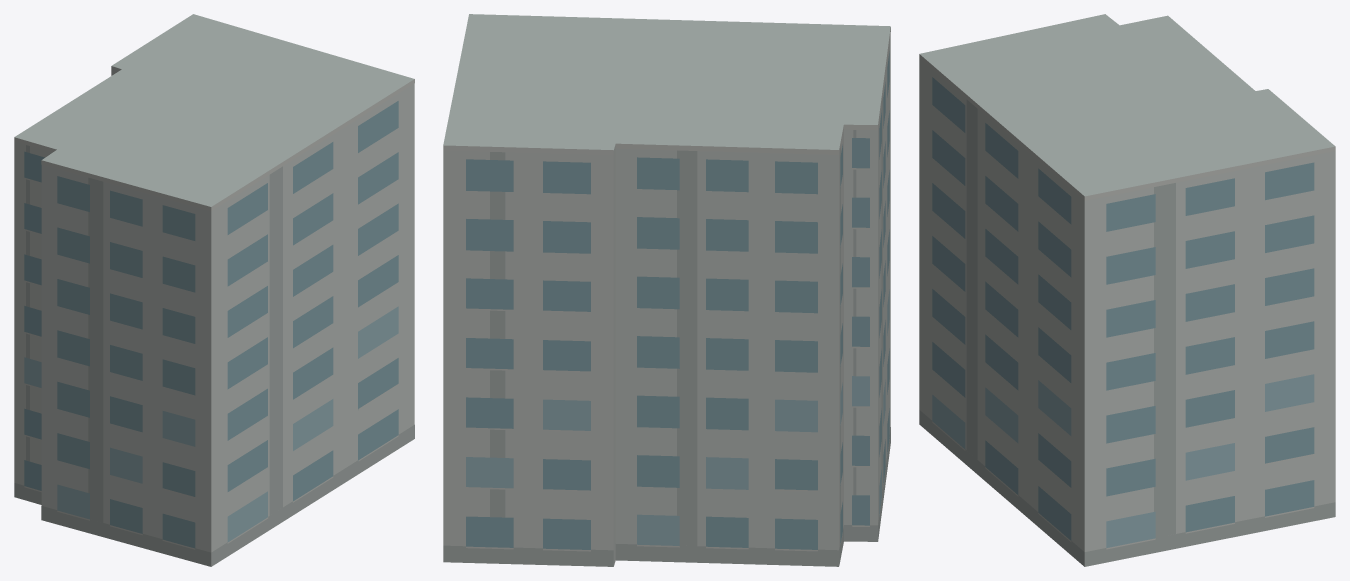
The model's file is survey-upis-32826149.glb.
3 renders of one model, left to right at view 1: azimuth 30°, elevation 25°; view 2: azimuth 150°, elevation 25°; view 3: azimuth 270°, elevation 25°, orthographic. The views are drawn at different scales.
Parts seen in each view (by area): view 1: survey-upis-32826149.tmp; view 2: survey-upis-32826149.tmp; view 3: survey-upis-32826149.tmp.
Boxes of the visible parts, box(x1,y1,x2,y2) form: survey-upis-32826149.tmp: box(14, 14, 414, 566); survey-upis-32826149.tmp: box(443, 14, 890, 566); survey-upis-32826149.tmp: box(919, 14, 1335, 566).
Bounding box in the file's own units: 21.13 × 20 × 20.38.
